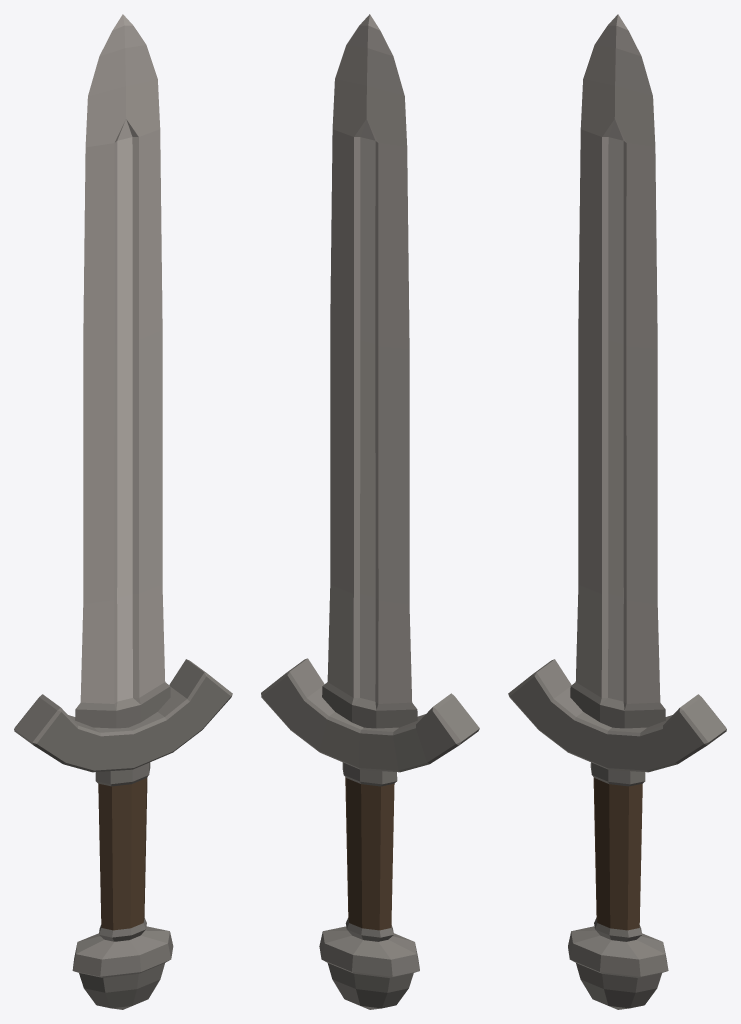
The model's file is SM_pwe_slavic_sword_06.fbx.
3 renders of one model, left to right at view 1: azimuth 30°, elevation 25°; view 2: azimuth 150°, elevation 25°; view 3: azimuth 330°, elevation 25°, orthographic.
Parts seen in each view (by area): view 1: SM_pwe_slavic_sword_06; view 2: SM_pwe_slavic_sword_06; view 3: SM_pwe_slavic_sword_06.
Part boxes in pixels (box(x1,y1,x2,y2)): SM_pwe_slavic_sword_06: box(14, 14, 232, 1009); SM_pwe_slavic_sword_06: box(261, 14, 479, 1009); SM_pwe_slavic_sword_06: box(508, 14, 726, 1009).
Size of the model in its own units: 19.78 by 93.83 by 6.19.
